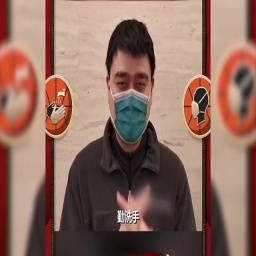correctlyWear: (105, 62, 155, 145)
